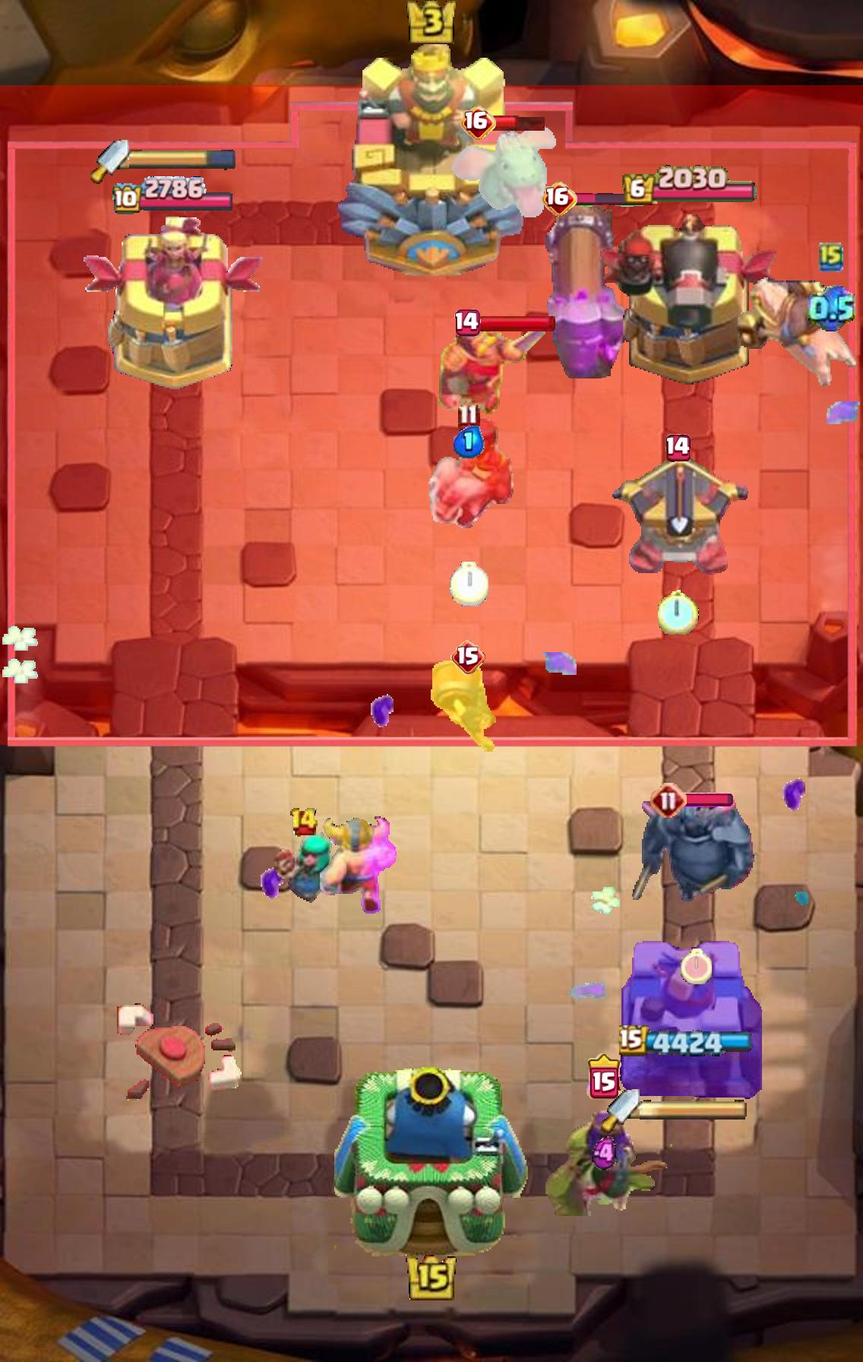bar: (477, 314, 556, 332), (574, 192, 648, 207), (492, 115, 547, 131), (683, 792, 733, 807)
bar-level: (587, 1053, 623, 1099), (650, 782, 687, 819), (541, 182, 577, 217), (461, 106, 496, 141), (450, 640, 485, 675), (289, 807, 318, 838), (455, 308, 481, 336), (665, 434, 691, 462), (457, 403, 480, 432)
